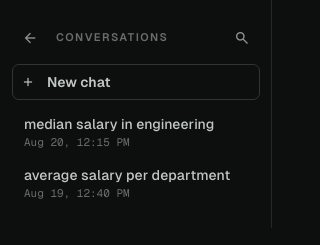
Test: collapsing the rail › takes the labels out of the accessibility tree and the controls out of the Tab order
The image size is (320, 245).
Click the button named "Hide conversations" at (30, 38), box [12, 20, 48, 56]
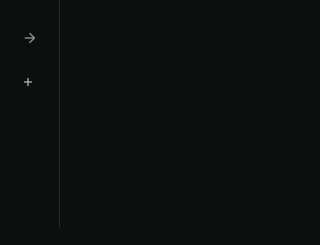
Result: the button "median salary in engineering" is gone
